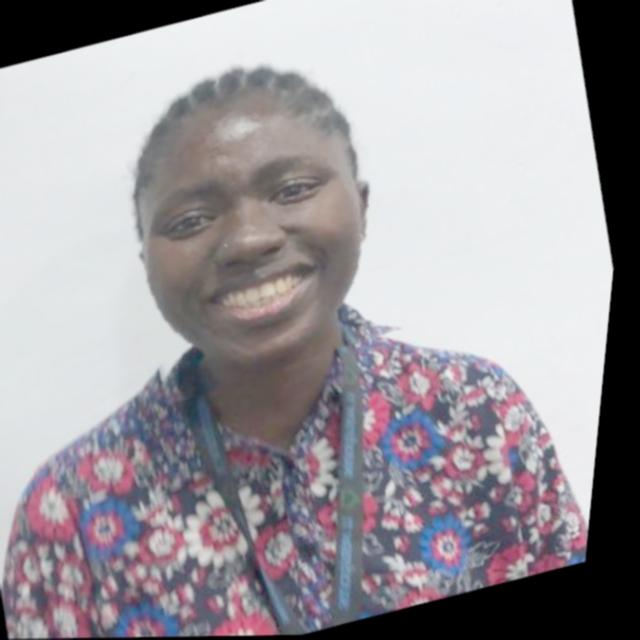happy: (80, 25, 433, 407)
